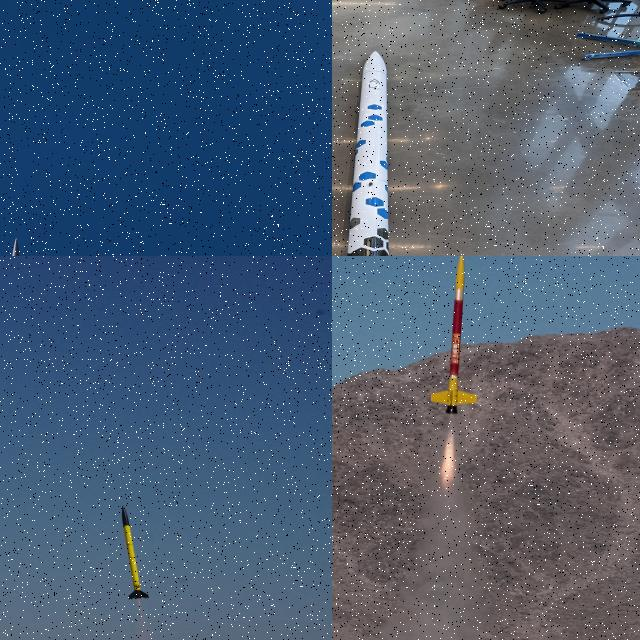Rocket: (347, 50, 389, 256), (428, 256, 478, 415), (120, 505, 150, 600)
